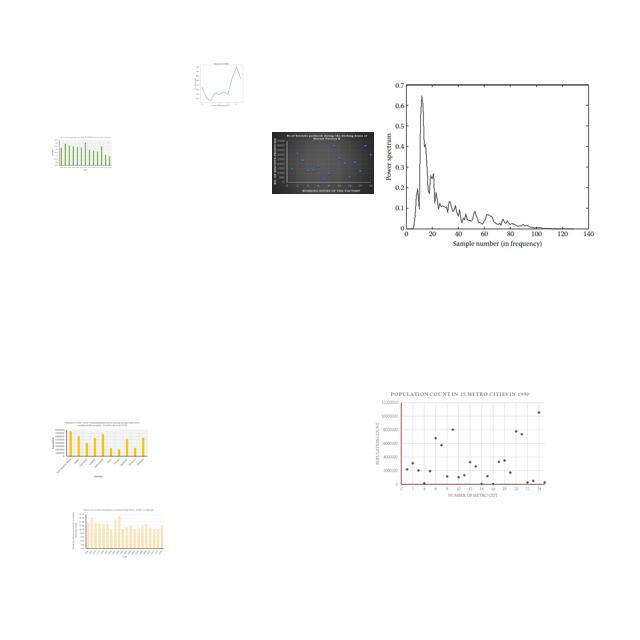Graph: (381, 81, 598, 251), (373, 390, 551, 501), (272, 132, 374, 194), (50, 420, 149, 479), (71, 507, 166, 559), (185, 59, 256, 108), (50, 135, 113, 172)
